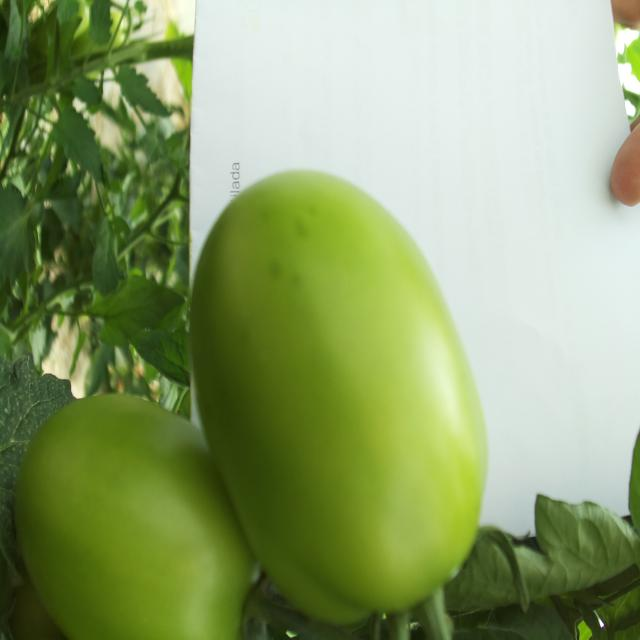unripe tomato: (15, 174, 479, 640)
